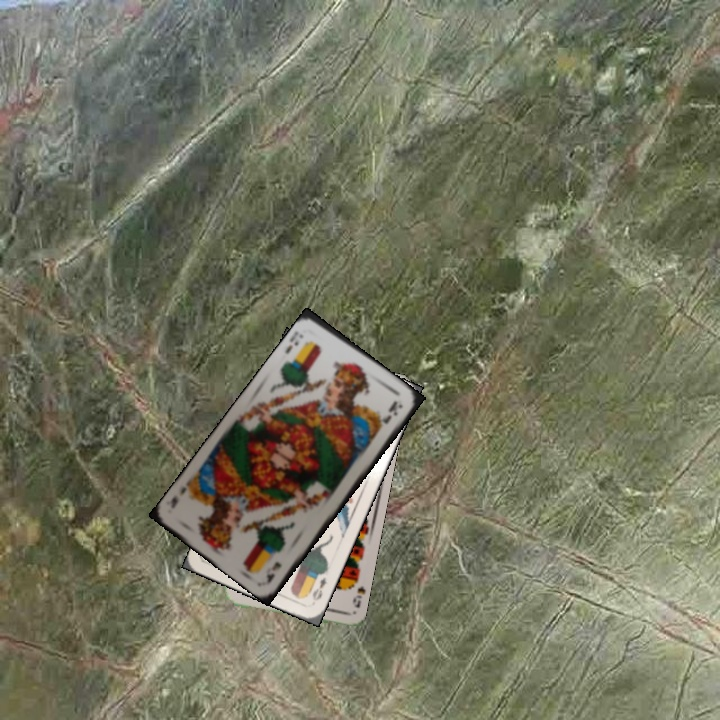EK: (281, 330, 306, 357), (262, 558, 284, 585)
EO: (308, 573, 329, 603)
S9: (346, 573, 367, 610)
